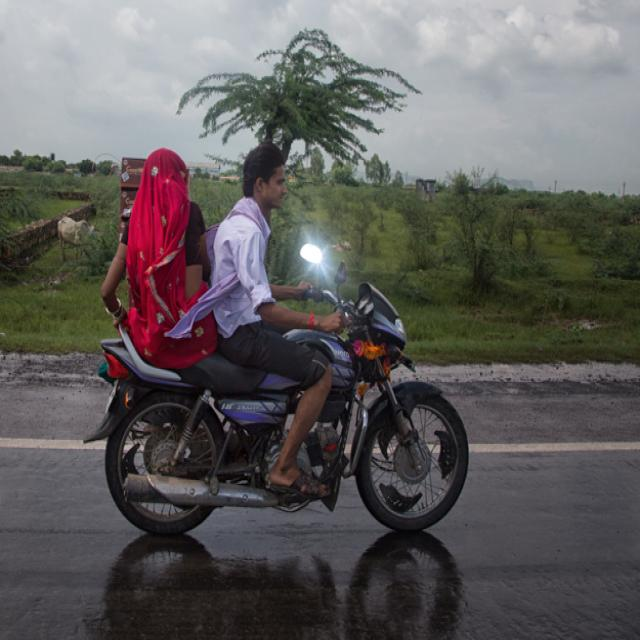motorcycle: (85, 142, 469, 535)
